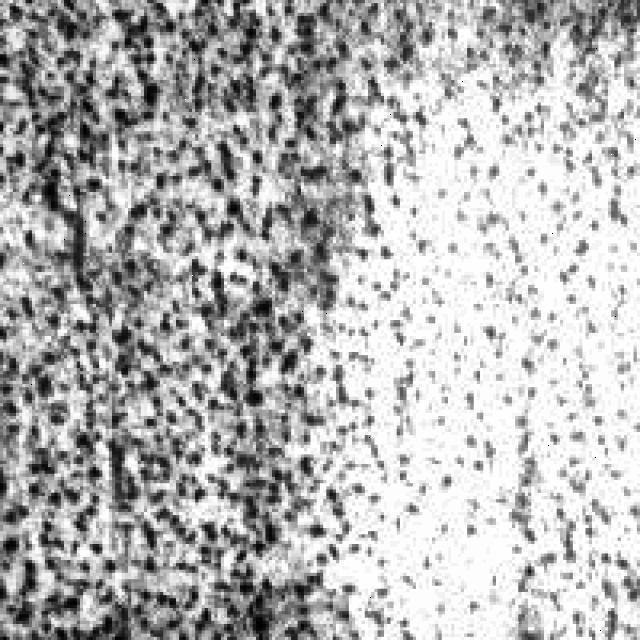Rolled_in_Scale: (3, 0, 352, 634), (320, 0, 640, 230)
